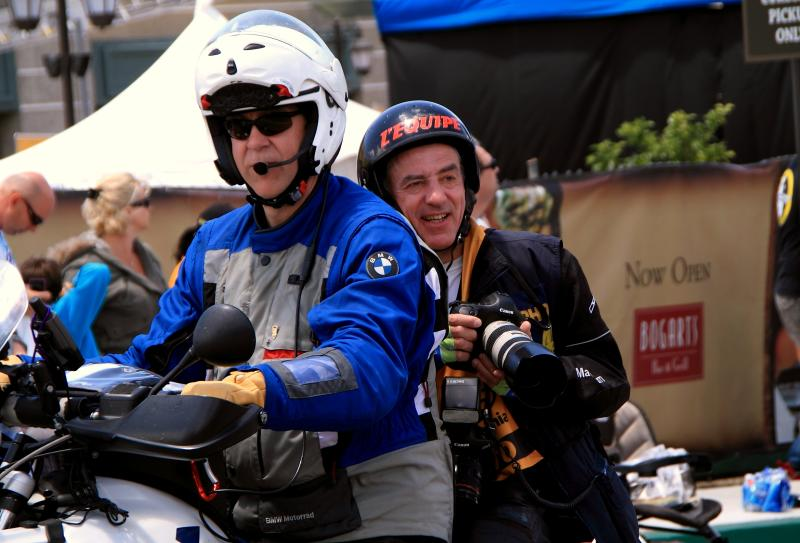helmet: (192, 25, 360, 162), (359, 100, 479, 165)
